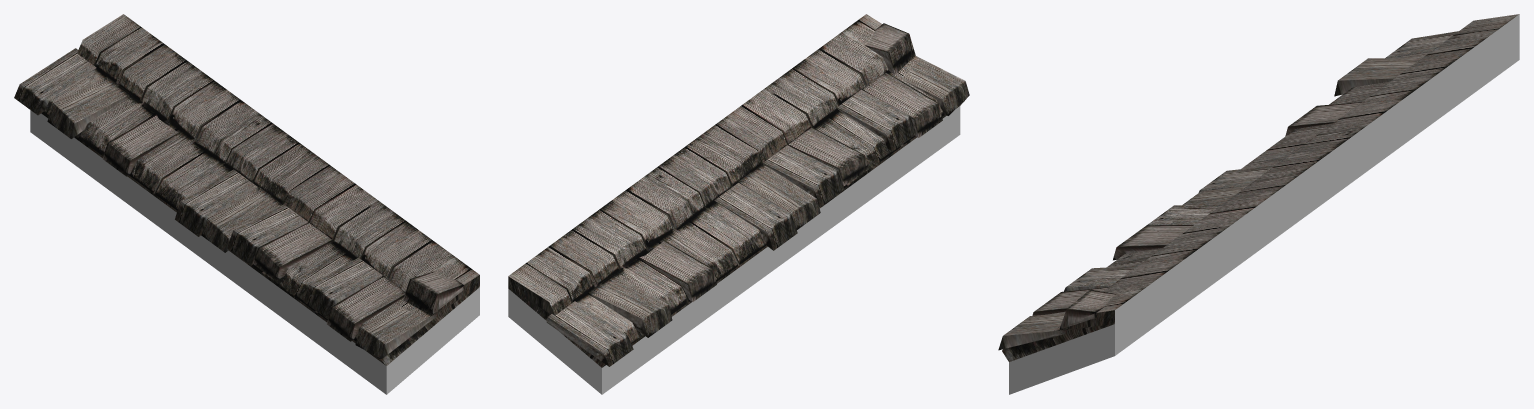
Rendered from RoofOverhang_22_5_mdl.fbx.
3 renders of one model, left to right at view 1: azimuth 30°, elevation 25°; view 2: azimuth 150°, elevation 25°; view 3: azimuth 330°, elevation 25°, orthographic. The views are drawn at different scales.
Visible parts, largest first — view 1: RoofOverhang_22_5_mdl; view 2: RoofOverhang_22_5_mdl; view 3: RoofOverhang_22_5_mdl.
Boxes of the visible parts, bbox=[...] form: RoofOverhang_22_5_mdl: bbox=[14, 14, 479, 394]; RoofOverhang_22_5_mdl: bbox=[508, 14, 969, 394]; RoofOverhang_22_5_mdl: bbox=[998, 14, 1519, 394].
Bounding box in the file's own units: 69.86 × 60.31 × 408.
